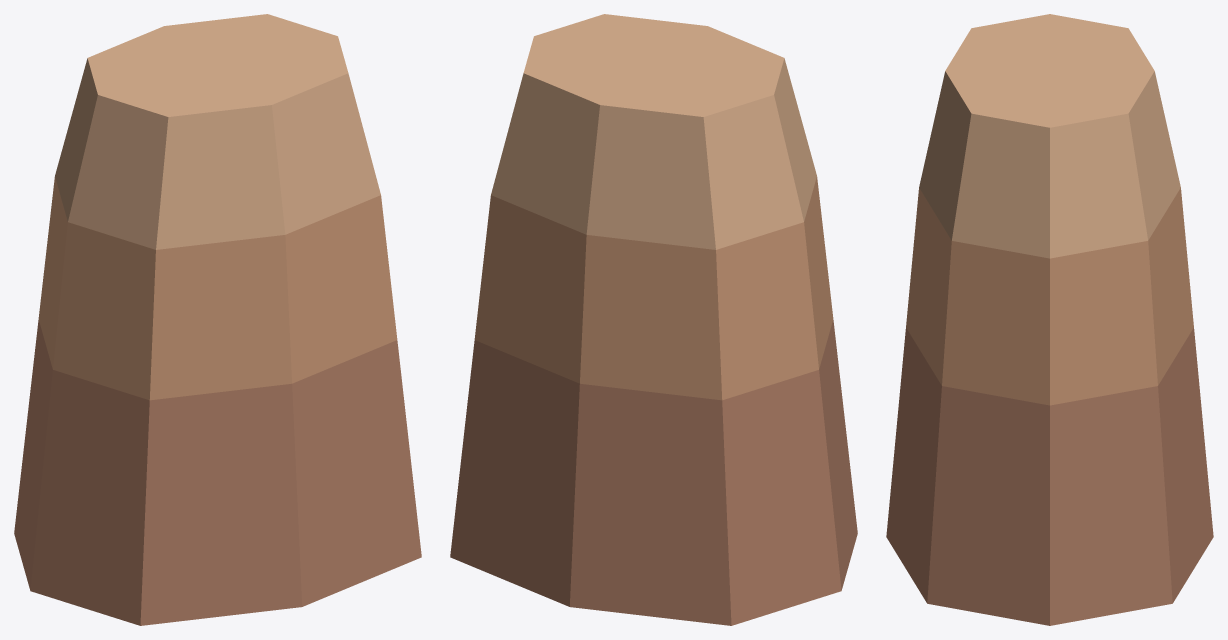
File: sandstone-3.glb
3 views of the same model, side by side, from view 1: azimuth 30°, elevation 25°; view 2: azimuth 150°, elevation 25°; view 3: azimuth 270°, elevation 25° (orthographic). The views are drawn at different scales.
Size of the model in its own units: 4.5 by 5.5 by 3.5.
